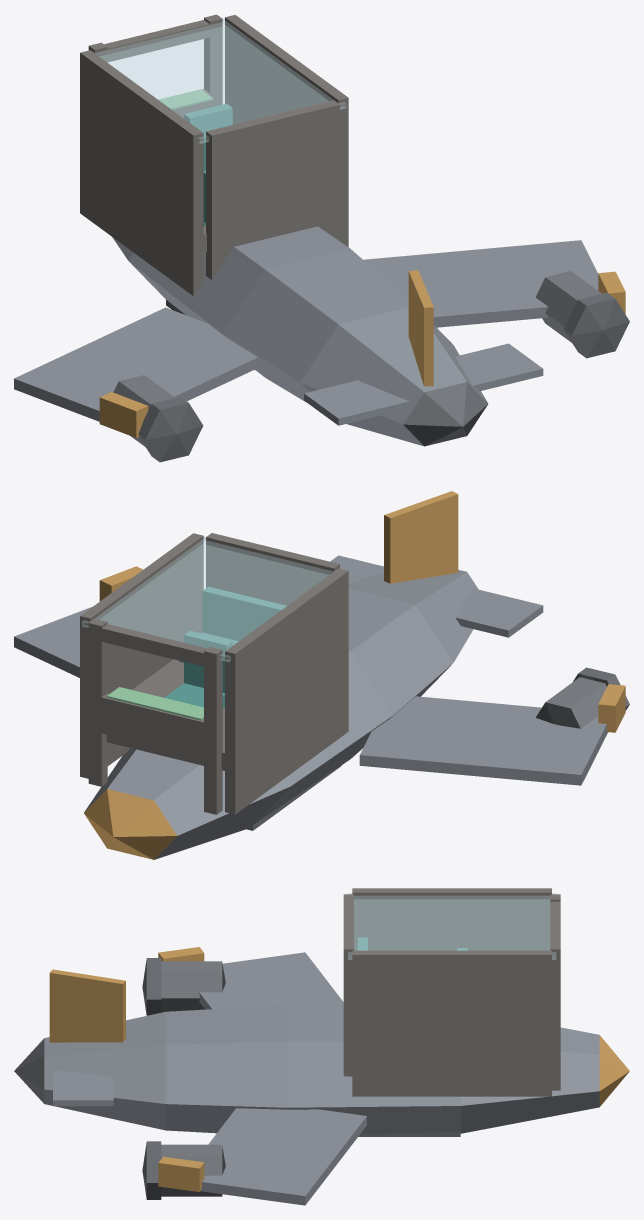
The picture shows the model from 3 angles, top to bottom: view 1: azimuth 30°, elevation 25°; view 2: azimuth 150°, elevation 25°; view 3: azimuth 270°, elevation 25°; orthographic projection. The views are drawn at different scales.
Visible parts, largest first — view 1: hull, cockpit; view 2: hull, cockpit; view 3: hull, cockpit.
Part boxes in pixels (left/top/right/bottom): hull: left=14, top=226, right=629, bottom=462; cockpit: left=80, top=14, right=348, bottom=295; hull: left=14, top=491, right=629, bottom=859; cockpit: left=80, top=533, right=348, bottom=814; hull: left=14, top=947, right=629, bottom=1205; cockpit: left=343, top=888, right=560, bottom=1096.
Size of the model in its own units: 6.65 by 2.51 by 7.1.
